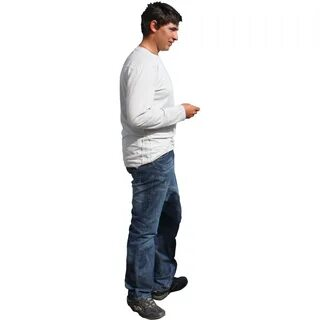awake: (118, 1, 201, 320)
